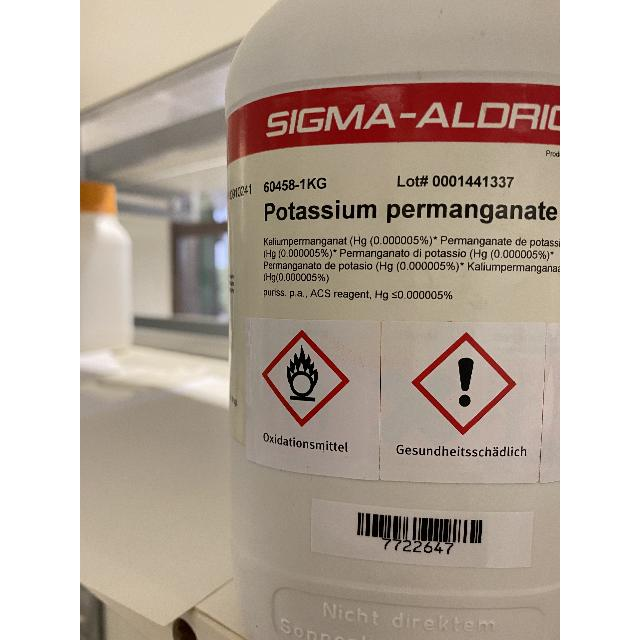health-ozone layer hazard: (452, 355, 480, 409)
oxidising: (284, 345, 320, 403)
